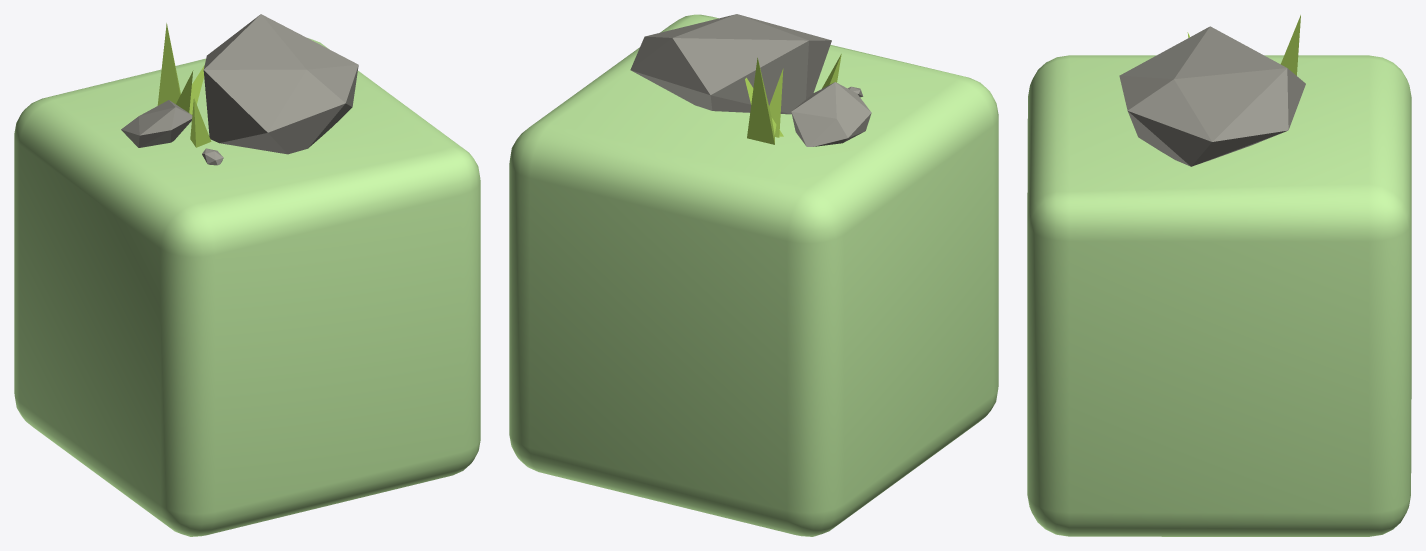
File: stone2.fbx
3 renders of one model, left to right at view 1: azimuth 30°, elevation 25°; view 2: azimuth 150°, elevation 25°; view 3: azimuth 270°, elevation 25°, orthographic. The views are drawn at different scales.
Parts seen in each view (by area): view 1: Cube.020; view 2: Cube.020; view 3: Cube.020.
Boxes of the visible parts, x1,y1,x2,y2 form: Cube.020: (14,14,480,536); Cube.020: (509,14,998,536); Cube.020: (1027,15,1411,536).
Size of the model in its own units: 200 by 250 by 200.
